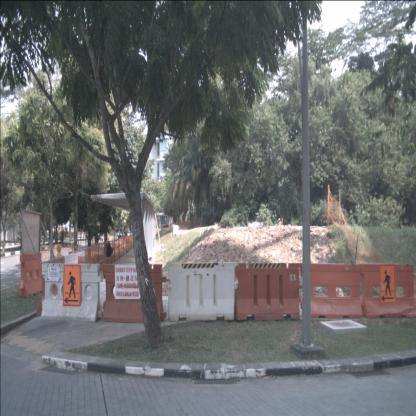movable_object-barrier: (167, 262, 238, 323), (235, 263, 303, 322), (102, 262, 168, 322), (41, 263, 104, 322), (300, 262, 363, 320), (359, 264, 416, 318), (36, 258, 65, 314), (16, 252, 46, 299), (59, 252, 79, 297)
vehicle-car: (118, 228, 128, 240)
